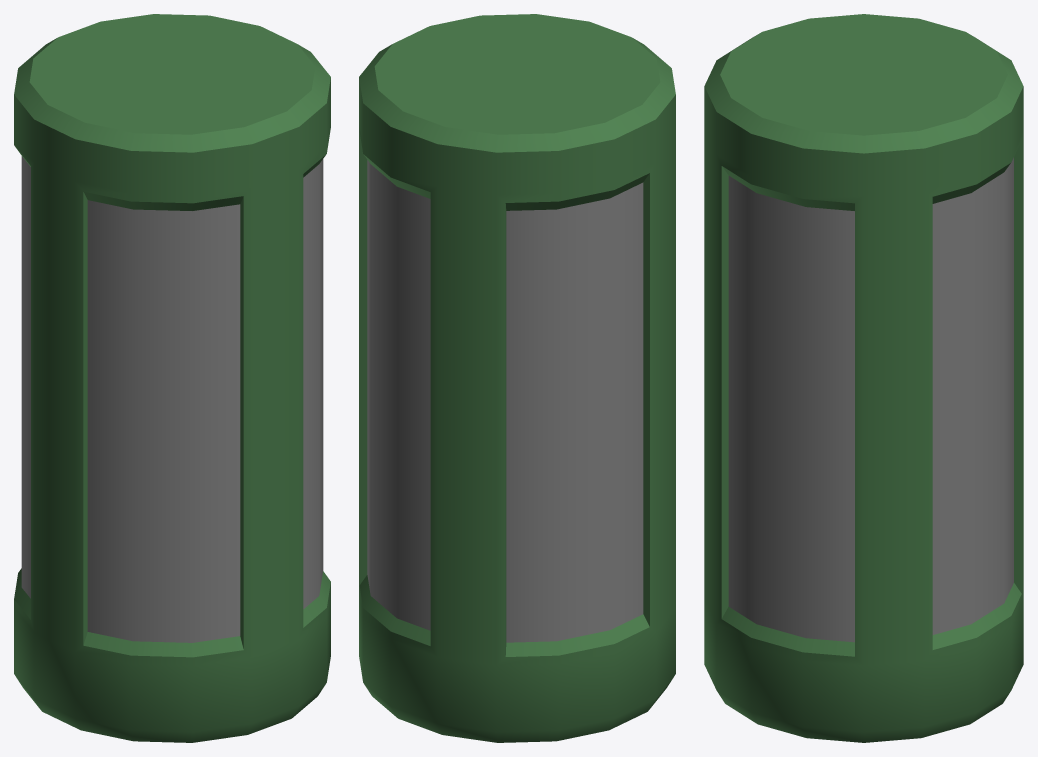
The model's file is cannister_guard_filled_mesh_flat_top.glb.
3 renders of one model, left to right at view 1: azimuth 30°, elevation 25°; view 2: azimuth 150°, elevation 25°; view 3: azimuth 270°, elevation 25°, orthographic.
Parts seen in each view (by area): view 1: Cannister, Fill; view 2: Cannister, Fill; view 3: Cannister, Fill.
Boxes of the visible parts, x1,y1,x2,y2 form: Cannister: [14, 14, 330, 742]; Fill: [21, 156, 323, 642]; Cannister: [359, 14, 675, 742]; Fill: [367, 160, 643, 642]; Cannister: [704, 14, 1023, 742]; Fill: [728, 157, 1013, 642].
Size of the model in its own units: 0.4 by 0.8361 by 0.4.
